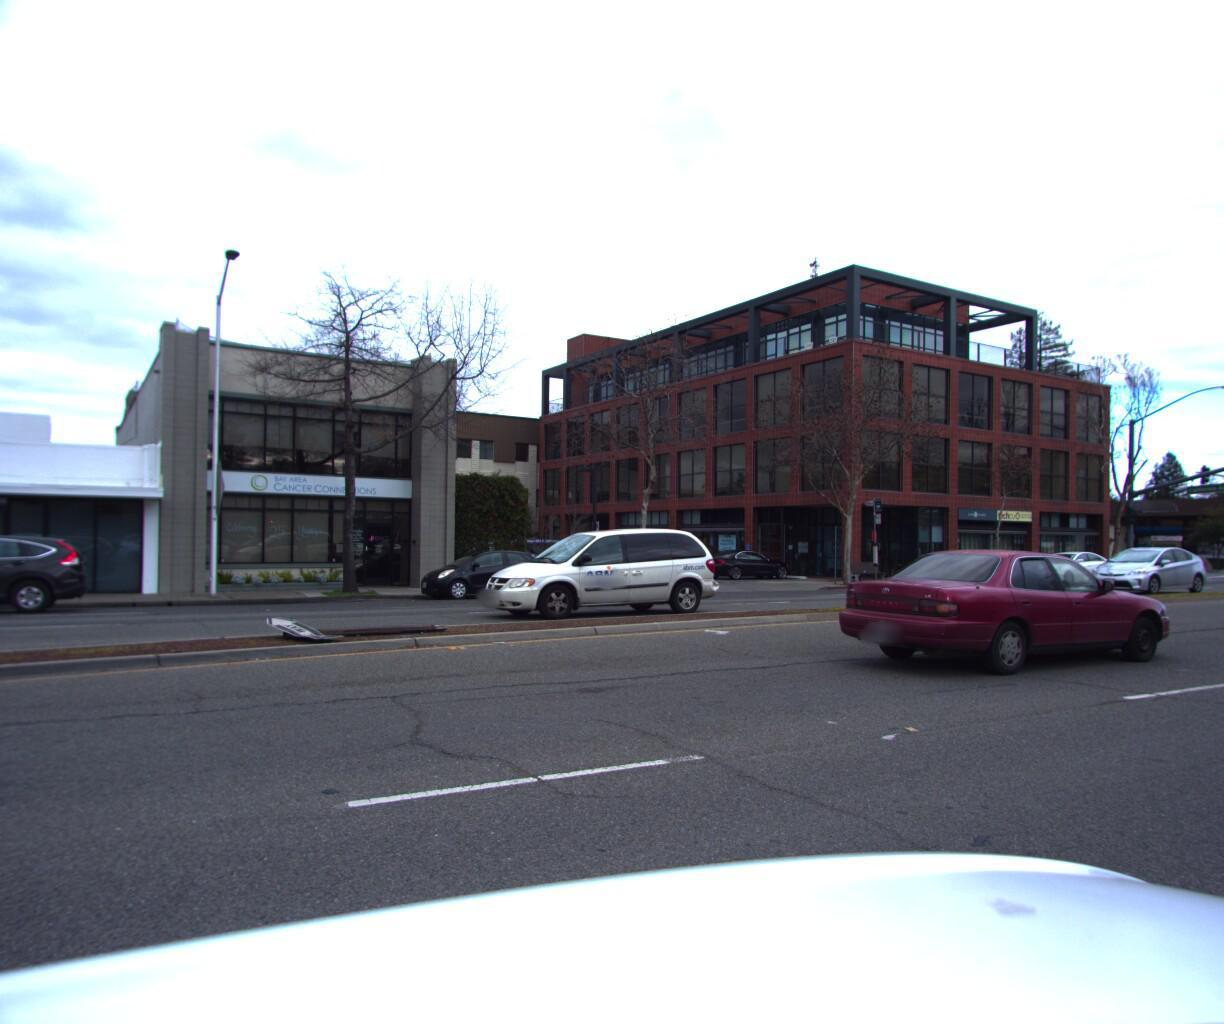car: (819, 537, 1177, 683), (468, 517, 723, 619), (0, 525, 91, 623), (405, 546, 555, 601), (1083, 538, 1214, 592), (1011, 546, 1116, 586), (694, 544, 792, 575)
